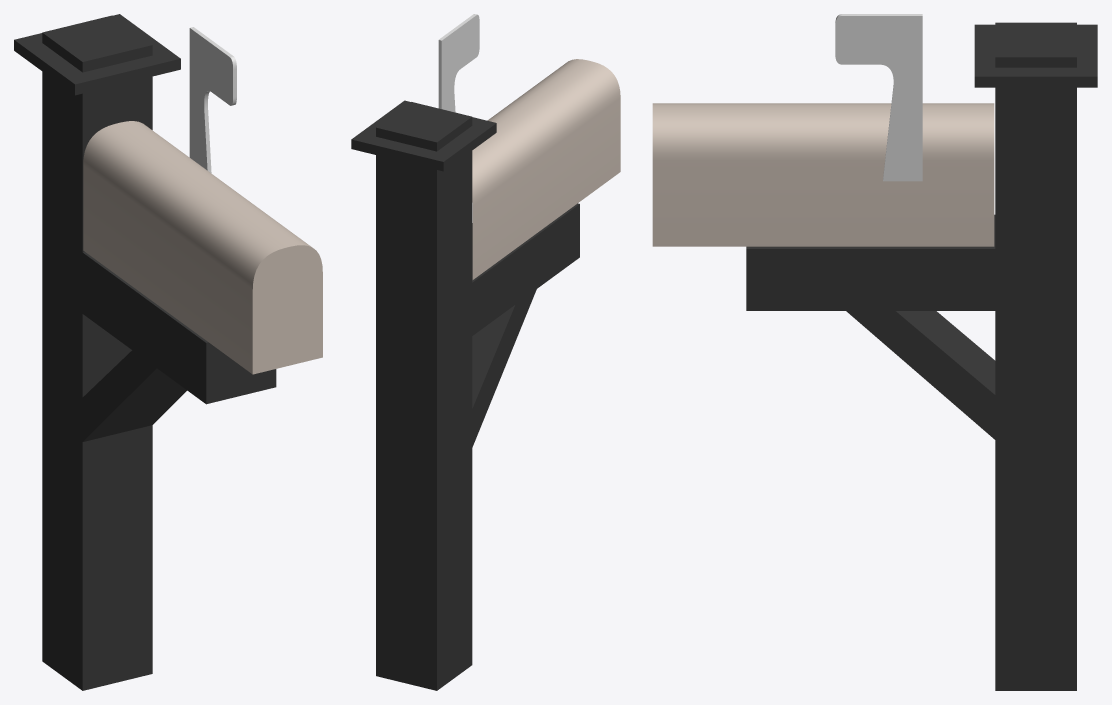
File: mailbox.gltf
3 renders of one model, left to right at view 1: azimuth 30°, elevation 25°; view 2: azimuth 150°, elevation 25°; view 3: azimuth 270°, elevation 25°, orthographic. The views are drawn at different scales.
Parts seen in each view (by area): view 1: Box008, Box009; view 2: Box008, Box009; view 3: Box008, Box009.
Part boxes in pixels (<box>): Box008: <box>14,14,322,690</box>; Box009: <box>189,27,236,173</box>; Box008: <box>351,59,620,690</box>; Box009: <box>438,14,479,112</box>; Box008: <box>652,22,1097,690</box>; Box009: <box>835,14,922,181</box>.
Size of the model in its own units: 0.2867 by 1.74 by 1.05.
